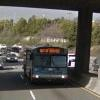Bus: (19, 39, 70, 86)
